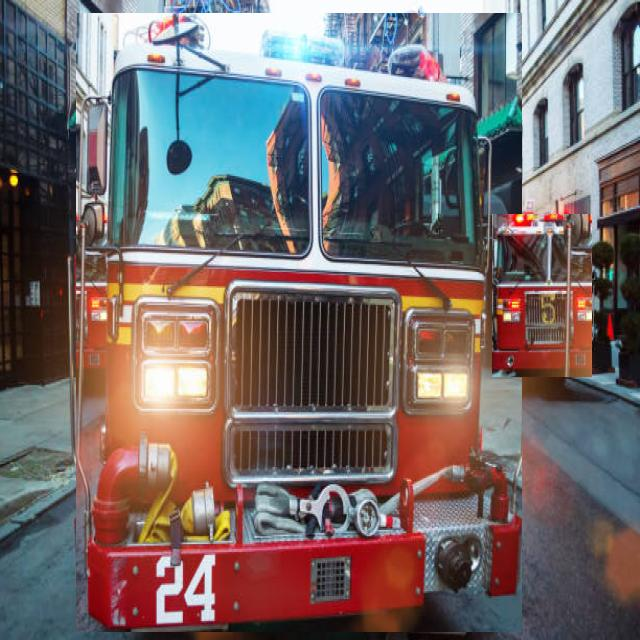emergency: (76, 13, 521, 632), (492, 214, 591, 377)
